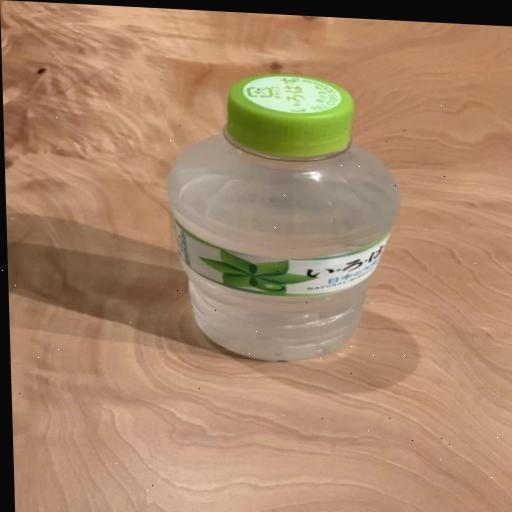bottle: (126, 38, 443, 419)
